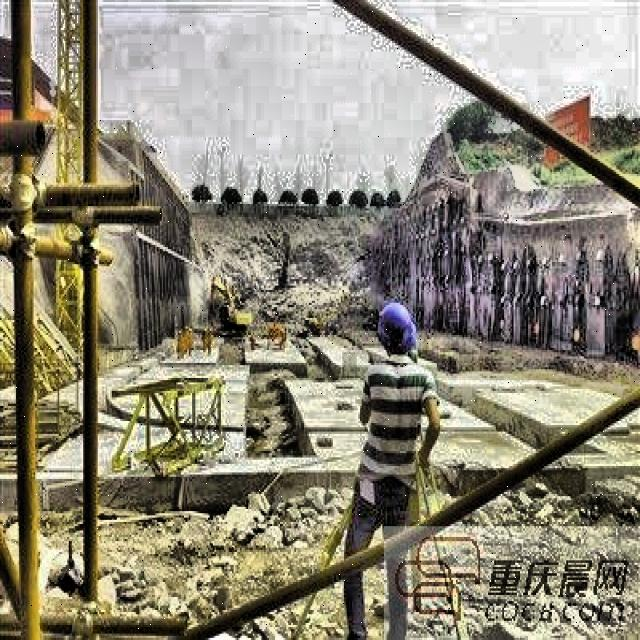helmet: (374, 298, 420, 361)
